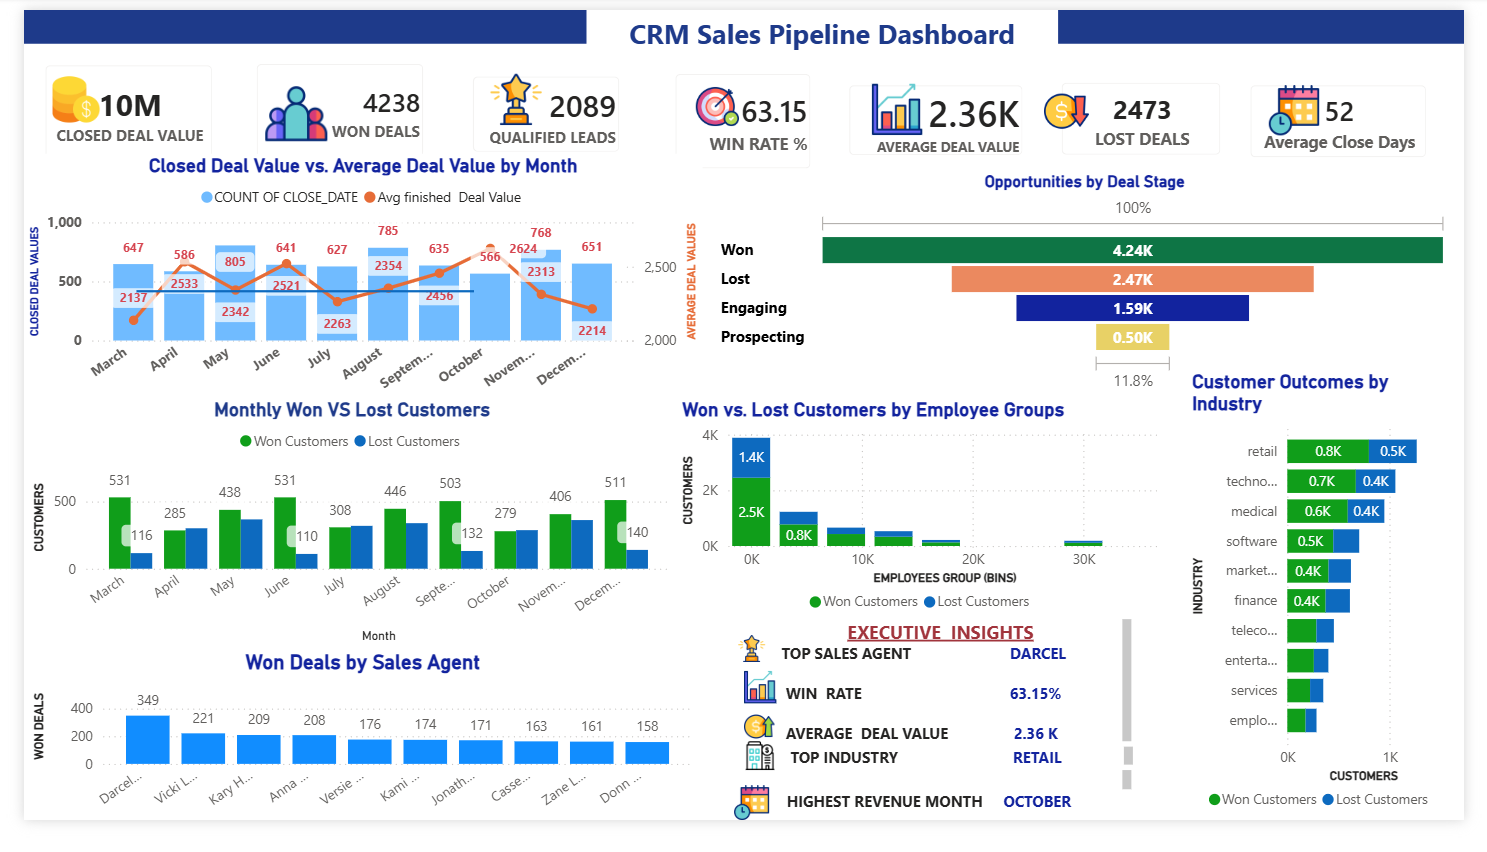

What the dashboard file says about the page in this screenshot:
{"tool":"powerbi","page":{"name":"CRM-SALES PIPELINE DASHBOARD","canvas":[1280,720],"ordinal":0},"visuals":[{"type":"cardVisual","fields":{"Data":["Sum(sales_pipeline.close_value)"]},"box":[2.2,32.2,182.2,118.9],"z":0},{"type":"cardVisual","fields":{"Data":["CountNonNull(sales_pipeline.deal_stage)"]},"box":[382.2,42.2,164.4,101.1],"z":1000},{"type":"cardVisual","fields":{"Data":["accounts.Churned Customers"]},"box":[905.6,47.8,175.6,98.9],"z":2000},{"type":"actionButton","box":[22.9,320.1,99.8,39.5],"z":3000},{"type":"cardVisual","fields":{"Data":["CountNonNull(sales_pipeline.deal_stage)"]},"box":[190,31.1,182.2,117.8],"z":4000},{"type":"cardVisual","fields":{"Data":["accounts.Conversion %"]},"box":[562.2,40,154.4,118.9],"z":5000},{"type":"cardVisual","fields":{"Data":["accounts.Avg finished  Deal Value"]},"box":[716.7,50,188.9,96.7],"z":6000},{"type":"lineClusteredColumnComboChart","title":"Closed Deal Value vs. Average Deal Value by Month","fields":{"Category":["sales_pipeline.close_date.Variation.Date Hierarchy.Month"],"Y":["CountNonNull(sales_pipeline.close_date)"],"Y2":["accounts.Avg finished  Deal Value"]},"box":[0,128,603,241],"z":7000},{"type":"funnel","title":"Opportunities by Deal Stage","fields":{"Category":["sales_pipeline.deal_stage"],"Y":["CountNonNull(sales_pipeline.opportunity_id)"]},"box":[614,143,657,201],"z":8000},{"type":"columnChart","title":"Won vs. Lost Customers by Employee Groups","fields":{"Y":["sales_pipeline.Won Customers","accounts.Churned Customers"],"Category":["accounts.employees (bins)"]},"box":[580,344.3,435.7,200],"z":9000},{"type":"columnChart","title":"Won Deals by Sales Agent","fields":{"Category":["sales_pipeline.sales_agent"],"Y":["sales_pipeline.Won Customers"]},"box":[2.9,568.6,595.7,151.4],"z":10000},{"type":"barChart","title":"Customer Outcomes by Industry","fields":{"Y":["sales_pipeline.Won Customers","accounts.Churned Customers"],"Category":["accounts.sector"]},"box":[1033,320,238,400],"z":11000},{"type":"shape","box":[0,0,1280,30],"z":12000},{"type":"textbox","box":[621.4,537.1,368.6,182.9],"z":13000},{"type":"image","box":[21.1,56.7,51.1,45.6],"z":14000},{"type":"image","box":[392.2,56.7,91.1,45.6],"z":15000},{"type":"image","box":[595.7,67.1,41.4,38.6],"z":16000},{"type":"image","box":[214.4,57.8,55.6,68.9],"z":17000},{"type":"image","box":[728.9,65.6,94.4,45.6],"z":18000},{"type":"image","box":[907.1,61.4,40,57.1],"z":19000},{"type":"cardVisual","fields":{"Data":["sales_pipeline.Average Close Days"]},"box":[1073.3,50,190,98.9],"z":20000},{"type":"image","box":[1088.9,66.7,80,44.4],"z":21000},{"type":"shape","box":[100,100,300,300],"z":23000},{"type":"image","box":[624.3,555.7,44.3,24.3],"z":24000},{"type":"image","box":[640,581.4,28.6,41.4],"z":25000},{"type":"image","box":[640,622.9,27.1,27.1],"z":26000},{"type":"image","box":[617.1,650,75.7,25.7],"z":27000},{"type":"image","box":[625.7,688.6,42.9,31.4],"z":28000},{"type":"textbox","box":[665.7,688.6,281.4,31.4],"z":29000},{"type":"textbox","box":[668.6,650,321.4,25.7],"z":30000},{"type":"textbox","box":[500,0,418.9,42.2],"z":31000},{"type":"lineClusteredColumnComboChart","title":"Monthly Won VS Lost Customers ","fields":{"Category":["sales_pipeline.close_date.Variation.Date Hierarchy.Month"],"Y":["sales_pipeline.Won Customers","accounts.Lost Customers"]},"box":[2.9,344.9,576.8,223.2],"z":32000}]}

Visuals, with their boxes in screenshot pixels (x1, y1, x2, y2), scaled from the page's 1280x720 canvas onto the 1487x852 screenshot:
cardVisual - Sum(sales_pipeline.close_value): l=3, t=38, r=214, b=179
cardVisual - CountNonNull(sales_pipeline.deal_stage): l=444, t=50, r=635, b=170
cardVisual - accounts.Churned Customers: l=1052, t=57, r=1256, b=174
actionButton: l=27, t=379, r=143, b=426
cardVisual - CountNonNull(sales_pipeline.deal_stage): l=221, t=37, r=432, b=176
cardVisual - accounts.Conversion %: l=653, t=47, r=832, b=188
cardVisual - accounts.Avg finished  Deal Value: l=833, t=59, r=1052, b=174
"Closed Deal Value vs. Average Deal Value by Month" lineClusteredColumnComboChart: l=0, t=151, r=701, b=437
"Opportunities by Deal Stage" funnel: l=713, t=169, r=1477, b=407
"Won vs. Lost Customers by Employee Groups" columnChart: l=674, t=407, r=1180, b=644
"Won Deals by Sales Agent" columnChart: l=3, t=673, r=695, b=851
"Customer Outcomes by Industry" barChart: l=1200, t=379, r=1477, b=851
shape: l=0, t=0, r=1486, b=36
textbox: l=722, t=636, r=1150, b=851
image: l=25, t=67, r=84, b=121
image: l=456, t=67, r=561, b=121
image: l=692, t=79, r=740, b=125
image: l=249, t=68, r=314, b=150
image: l=847, t=78, r=956, b=132
image: l=1054, t=73, r=1100, b=140
cardVisual - sales_pipeline.Average Close Days: l=1247, t=59, r=1468, b=176
image: l=1265, t=79, r=1358, b=131
shape: l=116, t=118, r=465, b=473
image: l=725, t=658, r=777, b=686
image: l=744, t=688, r=777, b=737
image: l=744, t=737, r=775, b=769
image: l=717, t=769, r=805, b=800
image: l=727, t=815, r=777, b=851
textbox: l=773, t=815, r=1100, b=851
textbox: l=777, t=769, r=1150, b=800
textbox: l=581, t=0, r=1068, b=50
"Monthly Won VS Lost Customers " lineClusteredColumnComboChart: l=3, t=408, r=673, b=672
